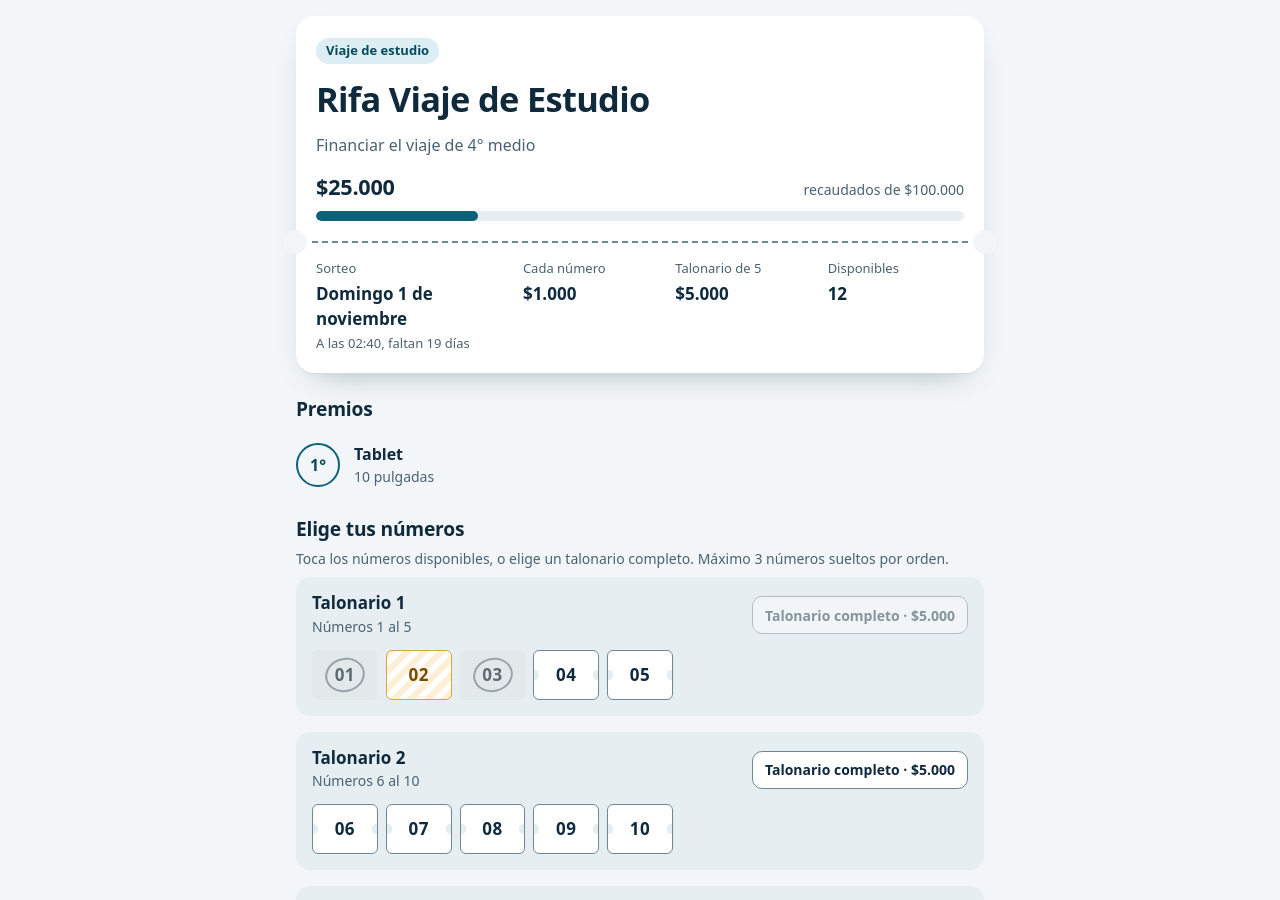
Test: página de la rifa › si otra persona toma un número mientras reservas, avisa y lo quita de la selección
Click the button named "Número 4, disponible". click: {"x": 566, "y": 675}
box: [533,650,599,700]
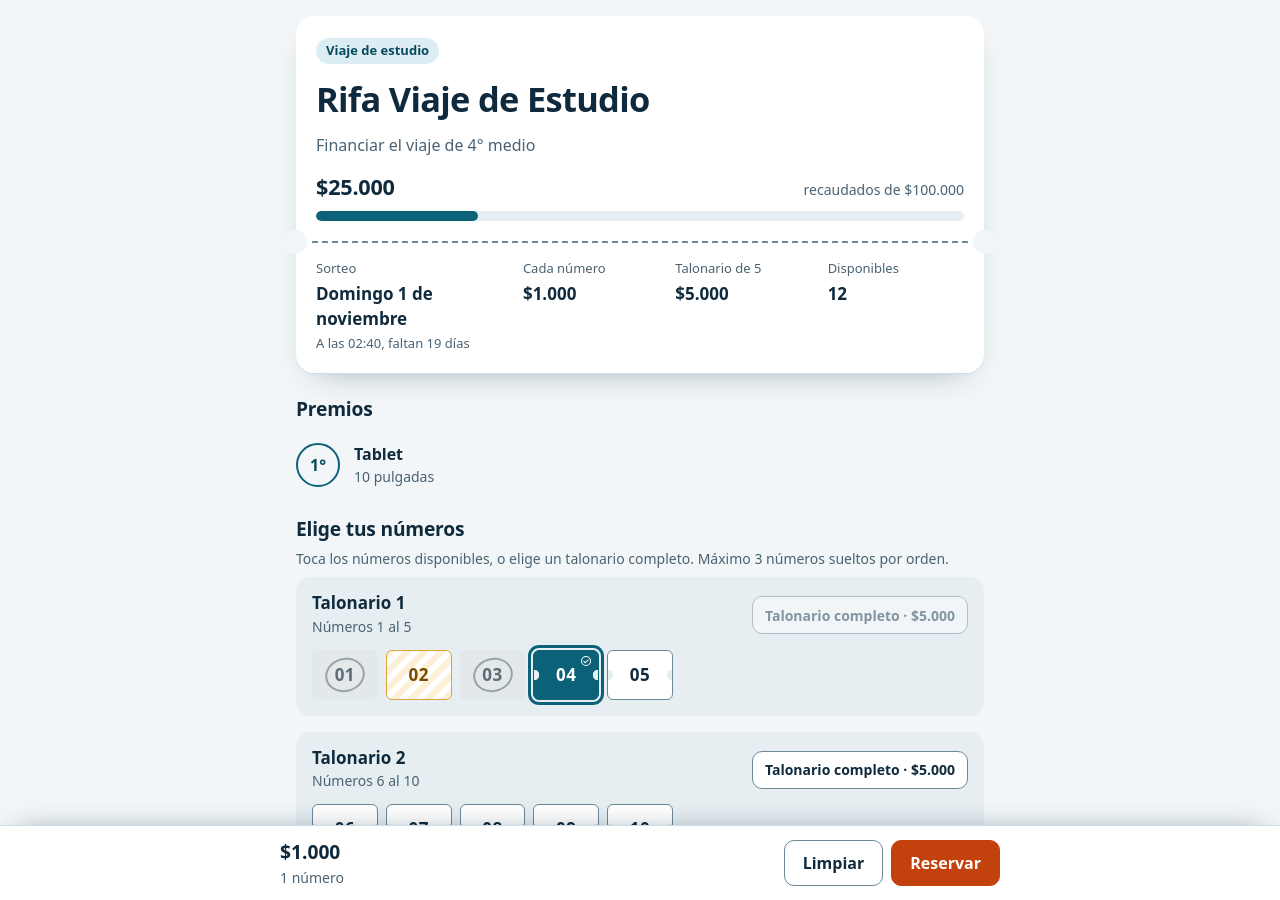
Click the button named "Número 5, disponible". click: {"x": 640, "y": 675}
box: [607,650,673,700]
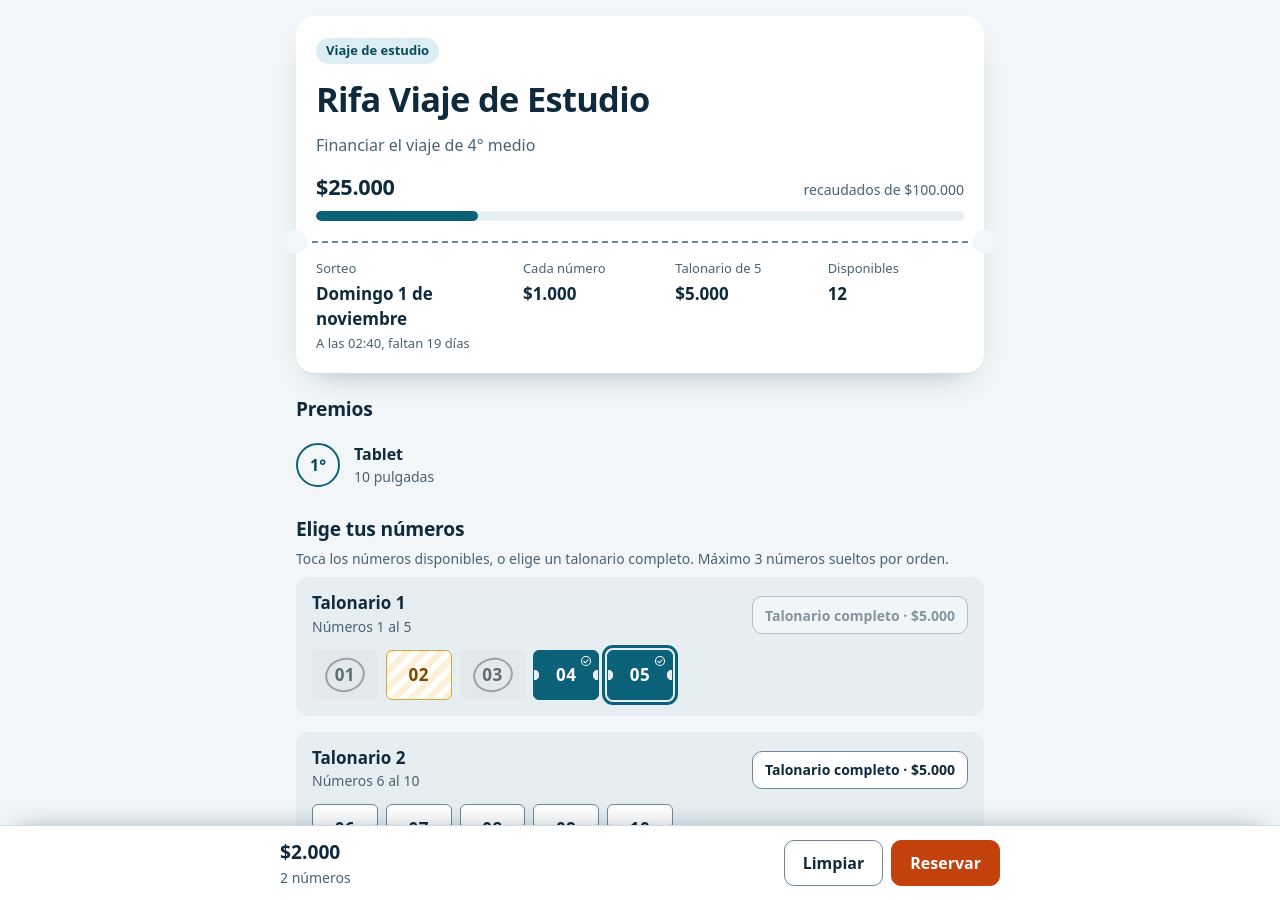
Click the button "Reservar". click: {"x": 946, "y": 863}
box: [891,840,1000,886]
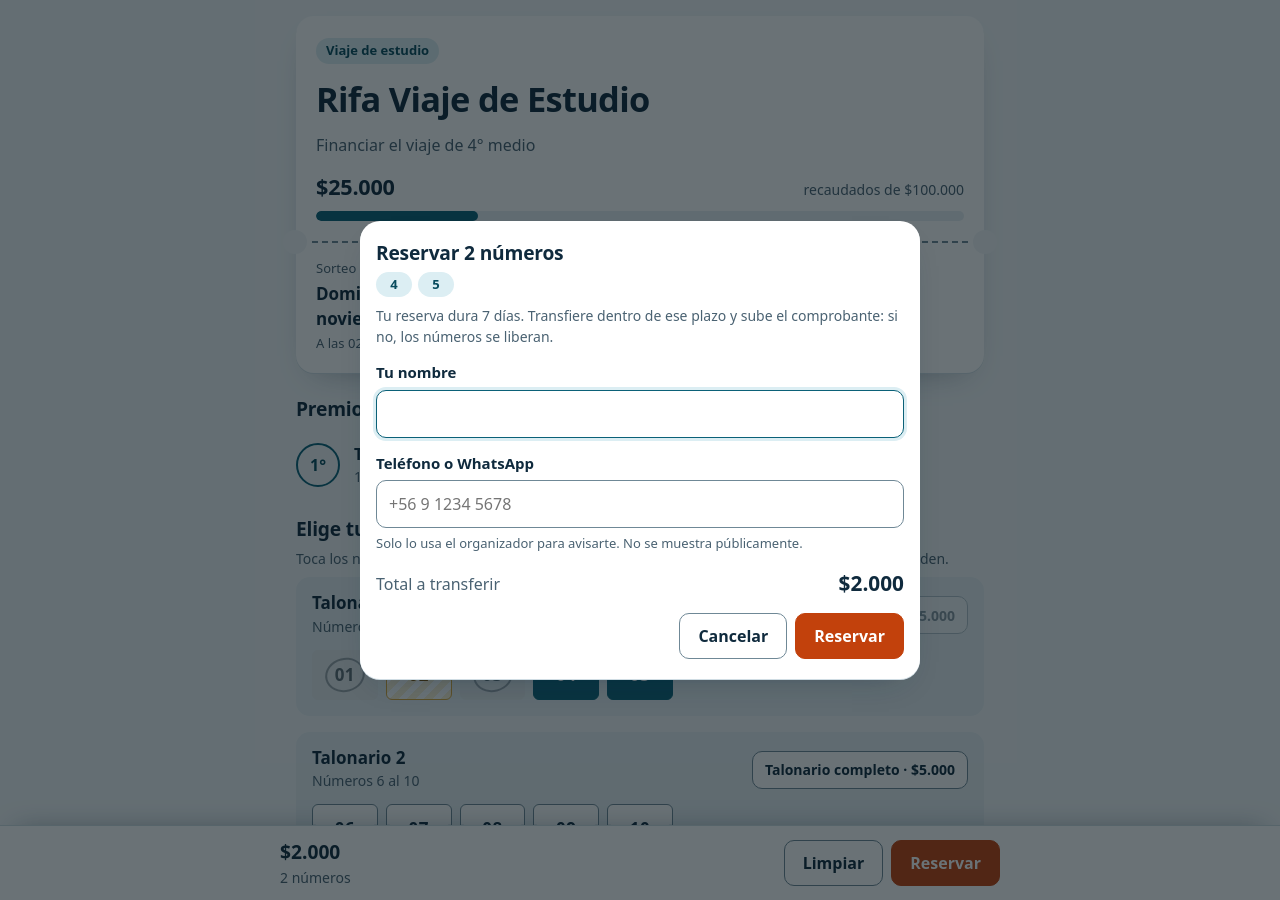
Type "María López" into the field labelled "Tu nombre". click: {"x": 640, "y": 414}
box: [376,390,904,438]
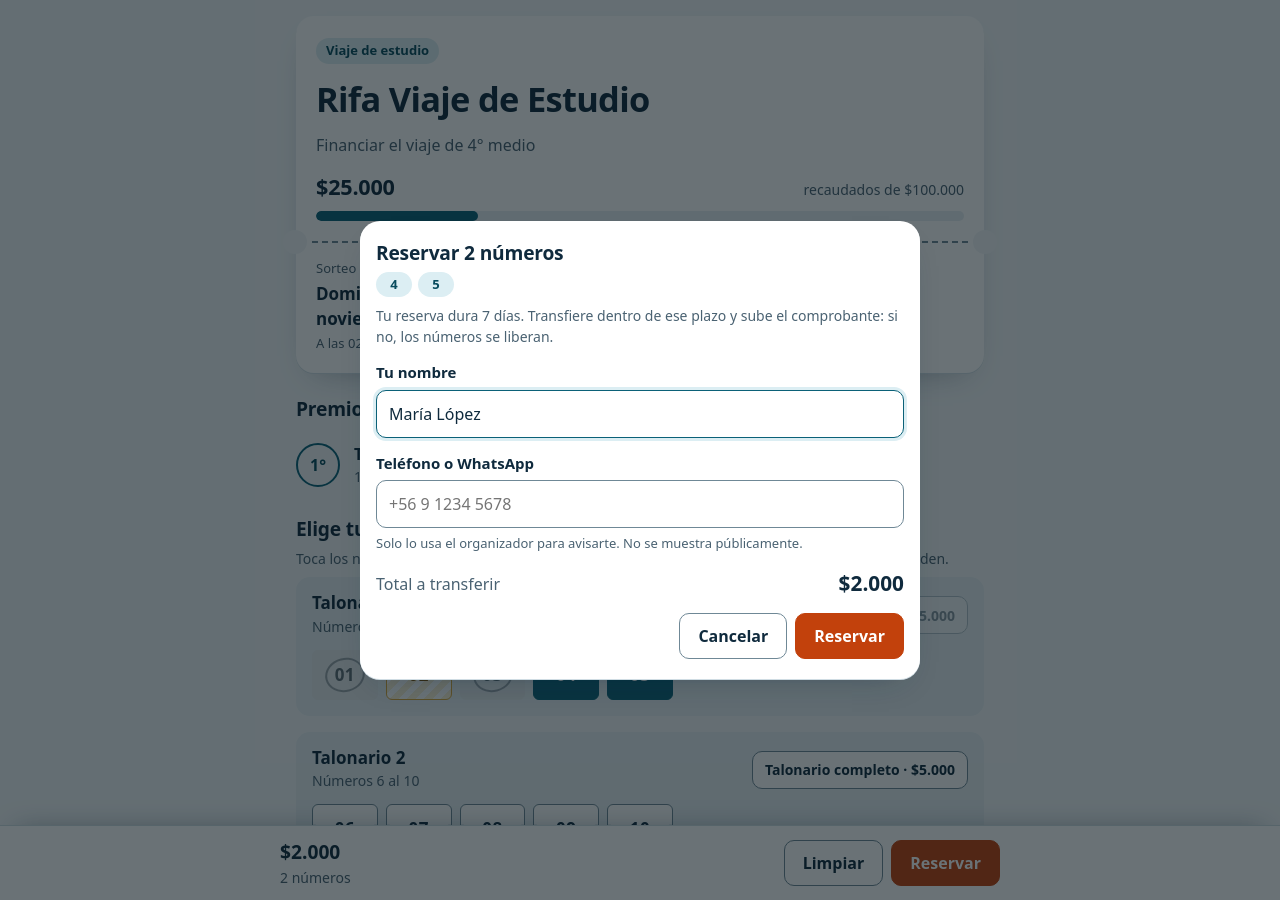
Type "+56911112222" into the field labelled "Teléfono o WhatsApp". click: {"x": 640, "y": 504}
box: [376,480,904,528]
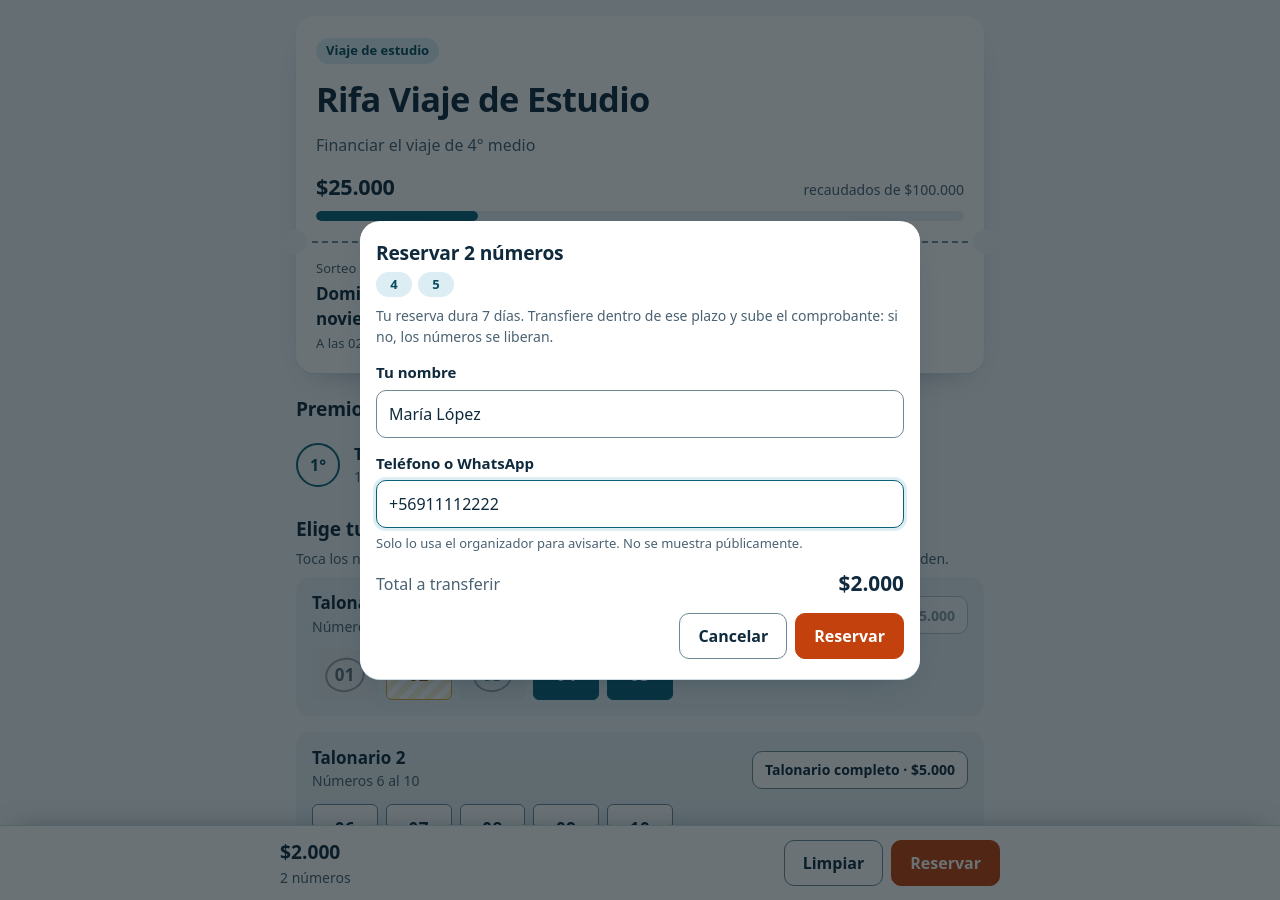
Click the button "Reservar". click: {"x": 850, "y": 636}
box: [795,613,904,659]
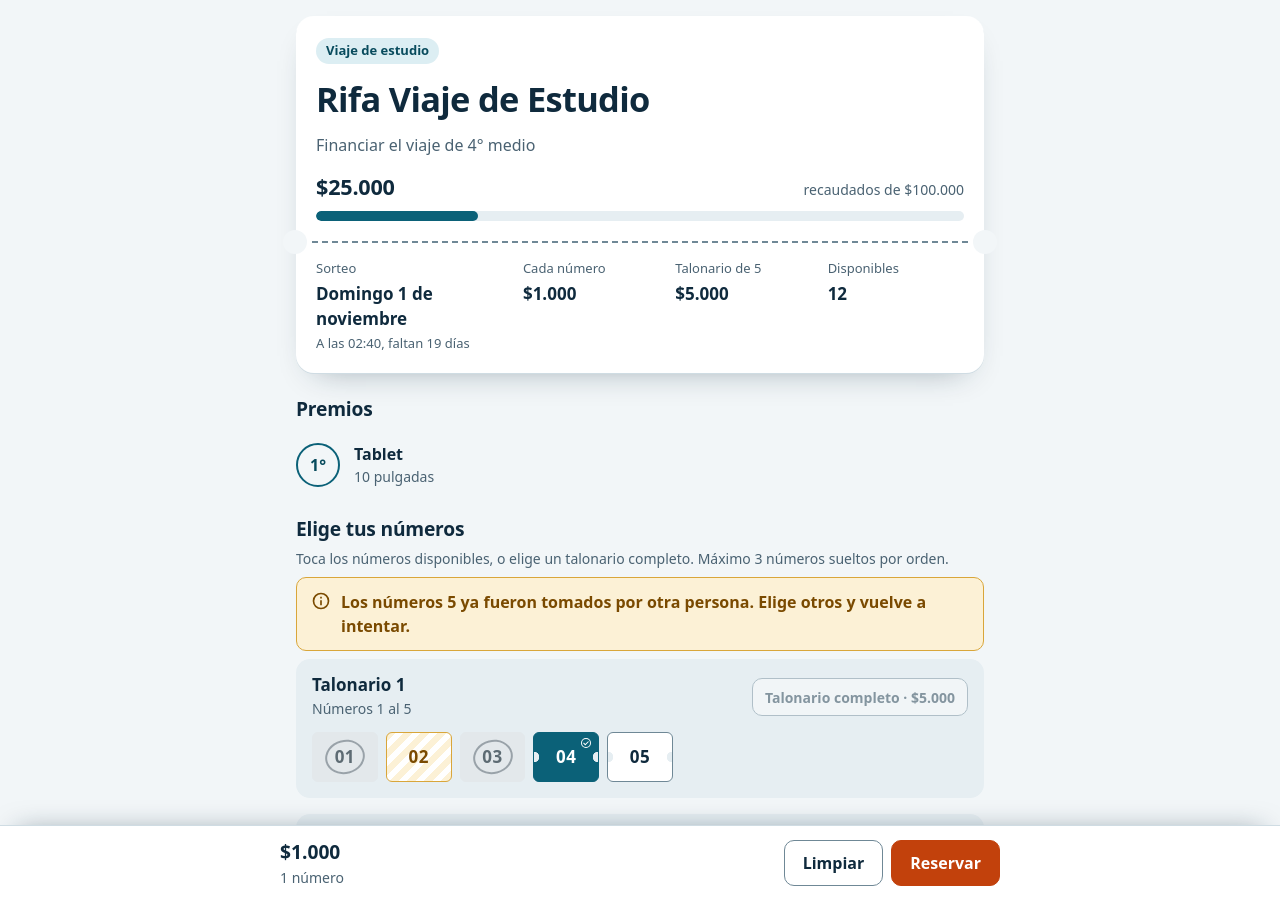
Check: the button named "Número 4, seleccionado" is shown, box [533,732,599,782]
Check: the text "Los números 5 ya fueron tomados" is shown, box [341,591,926,637]
Check: the dialog is gone
